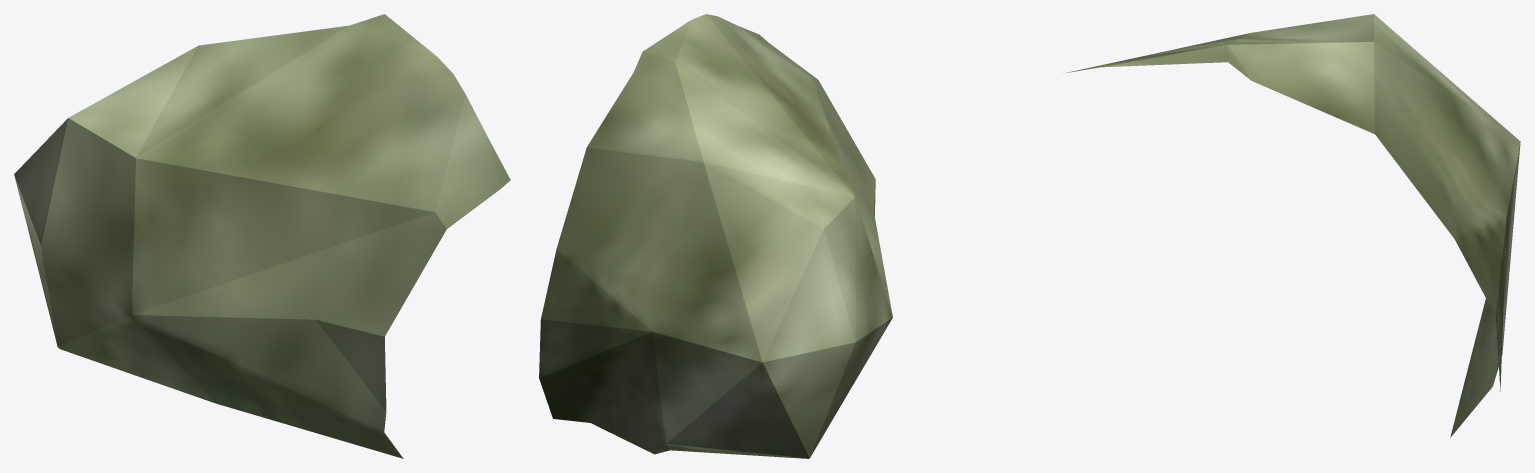
3 views of the same model, side by side, from view 1: azimuth 30°, elevation 25°; view 2: azimuth 150°, elevation 25°; view 3: azimuth 270°, elevation 25° (orthographic). The views are drawn at different scales.
Bounding box in the file's own units: 0.2263 × 0.2459 × 0.3366.
Materials: 1 (1 with a texture image).
